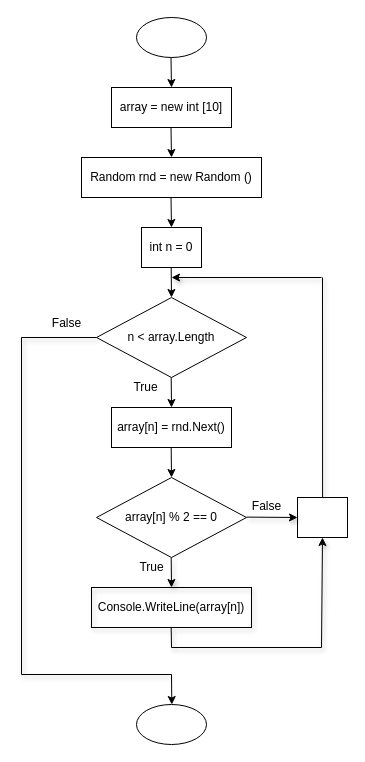
This 365x762 diagram has some shape labels left out. Here are the shapes that lost their labels. From the top down, the centre of each, then its label:
pixel 171 37: Start
pixel 322 517: n++
pixel 171 724: Stop
